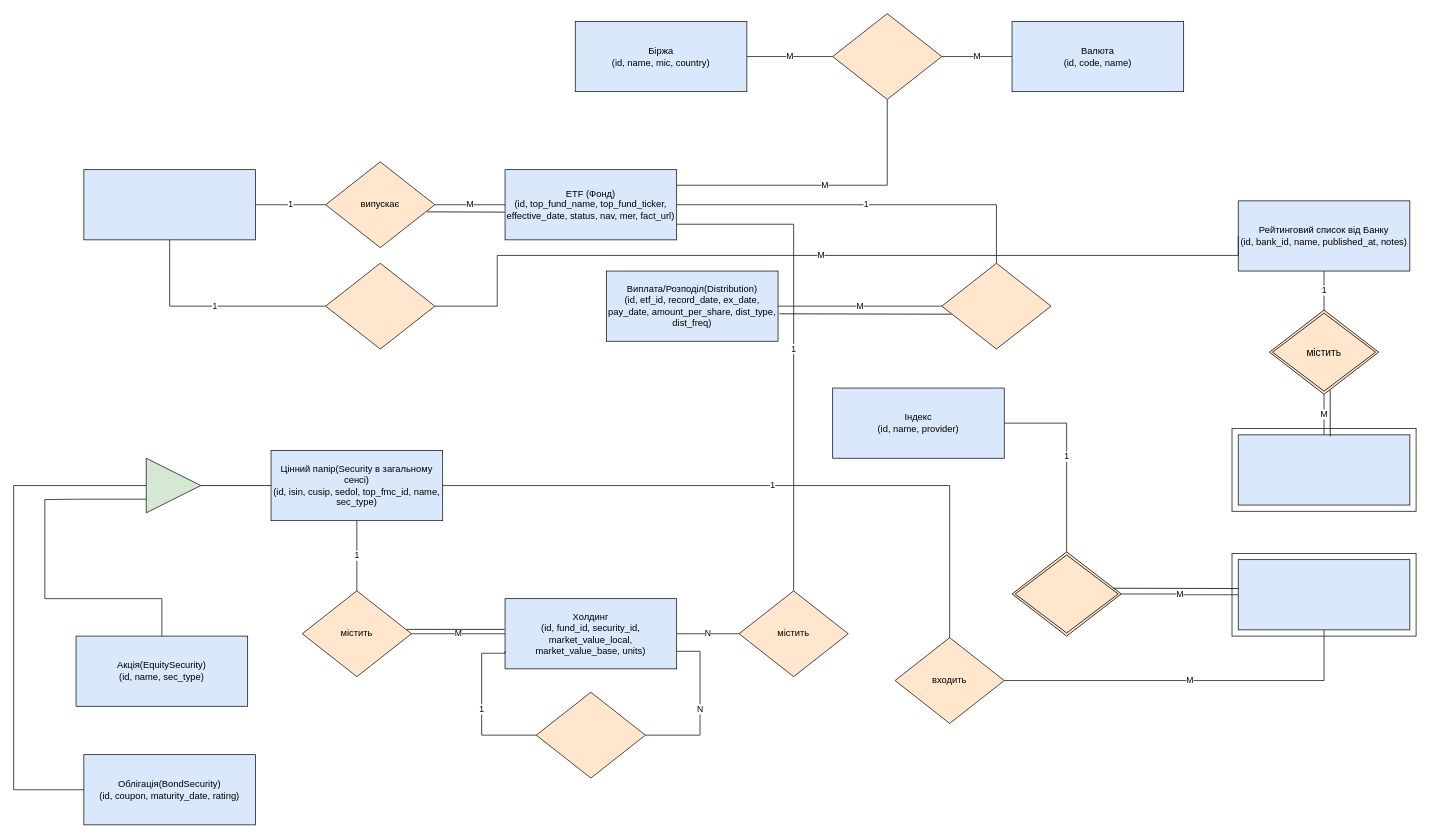
This 1430x838 diagram has some shape labels left out. The shapes that lost their labels are listed below. From the top down, each one's centre as x and y in pixels, then its label:
At point (887, 56): "Лістинг (по ticker, is_primary)".
At point (169, 204): "Банк (id, name, swift, address)".
At point (380, 305): "формує".
At point (996, 305): "виплачує".
At point (1323, 469): "Елемент рейтингу (слабка) (id, toplist_id, fund_id, rank, category)".
At point (1066, 593): "має склад".
At point (1323, 594): "Склад індексу (слабка) (id, index_id, security_id, as_of_date, target_weight)".
At point (590, 734): "складається з".
